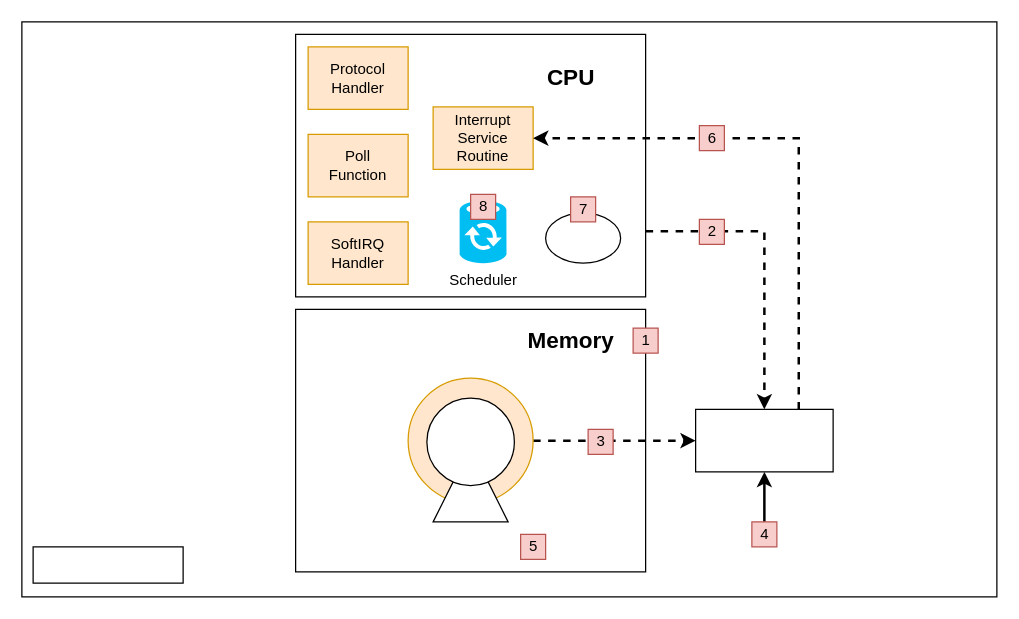
The diagram is 1019 pixels wide and 619 high, and some of its shapes have lost their labels. Each missing label, with the centre of its shape:
"Network Stack Flow" belongs at pixel 107 564.
"NIC" belongs at pixel 763 440.
"Packet" belongs at pixel 470 496.
"RX Ring" belongs at pixel 470 441.
"SoftIRQ" belongs at pixel 582 237.
